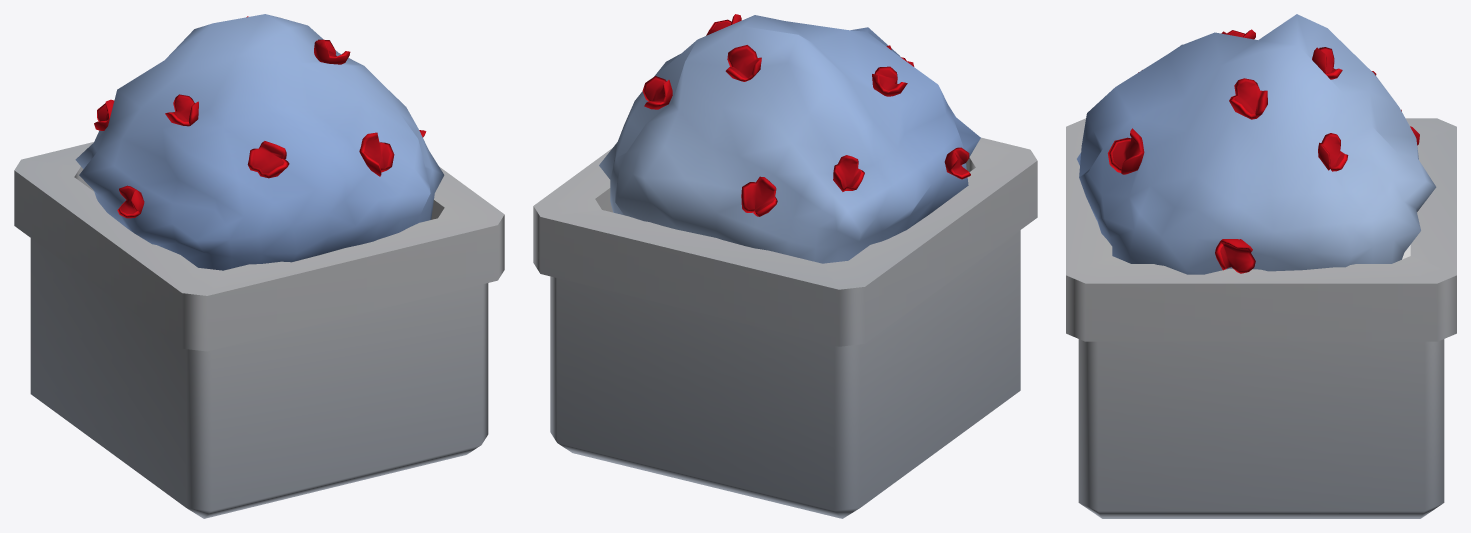
Rendered from ruusu.fbx.
The picture shows the model from 3 angles, left to right: view 1: azimuth 30°, elevation 25°; view 2: azimuth 150°, elevation 25°; view 3: azimuth 270°, elevation 25°; orthographic projection. The views are drawn at different scales.
Parts seen in each view (by area): view 1: polySurface7; view 2: polySurface7; view 3: polySurface7.
Part boxes in pixels (box(x1,y1,x2,y2)): polySurface7: box(14, 14, 504, 518); polySurface7: box(533, 14, 1037, 518); polySurface7: box(1066, 14, 1456, 518).
Bounding box in the file's own units: 9.26 × 11.05 × 9.26.
